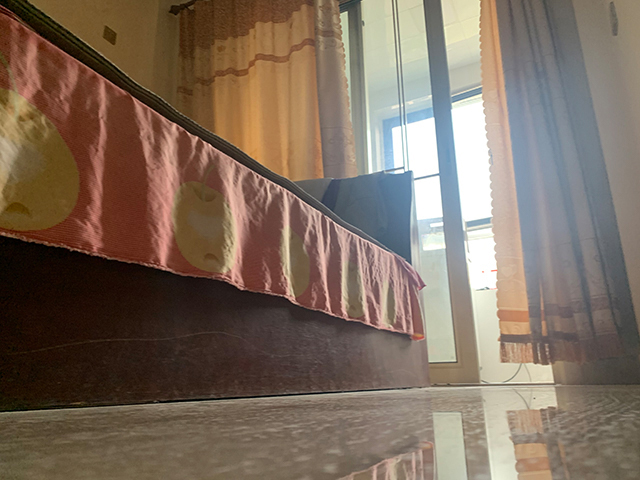bed: (1, 1, 427, 411)
curtain: (478, 1, 640, 364), (175, 1, 329, 178)
